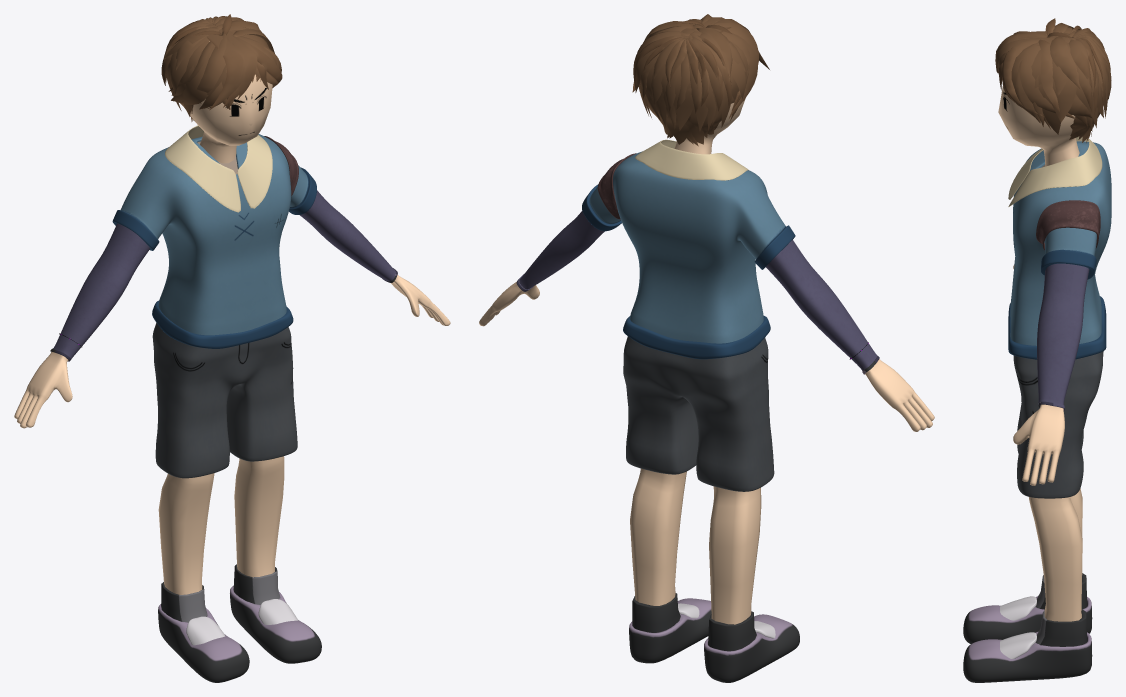
The model's file is WynterFinal.fbx.
3 renders of one model, left to right at view 1: azimuth 30°, elevation 25°; view 2: azimuth 150°, elevation 25°; view 3: azimuth 270°, elevation 25°, orthographic. The views are drawn at different scales.
Parts seen in each view (by area): view 1: Camiseta, ElColegon001, Pantacas001, rambut_pendek001, MangasLargas001, CuelloCamisa001, Bota003, Bota002, ParteAbajoCamiseta001, Calceto003, Calceto002, CosaDeBota003 (+1 smaller); view 2: Camiseta, Pantacas001, ElColegon001, rambut_pendek001, MangasLargas001, Bota003, Bota002, CuelloCamisa001, ParteAbajoCamiseta001, Calceto003, Calceto002, CosaDeCueroRara001; view 3: ElColegon001, Camiseta, rambut_pendek001, Pantacas001, MangasLargas001, Bota002, CuelloCamisa001, Bota003, CosaDeCueroRara001, Calceto002, ParteAbajoCamiseta001, CosaDeBota002 (+2 smaller).
Boxes of the visible parts, bbox=[...] form: Camiseta: bbox=[112, 134, 316, 335]; ElColegon001: bbox=[14, 41, 450, 594]; Pantacas001: bbox=[152, 323, 297, 478]; rambut_pendek001: bbox=[161, 14, 282, 121]; MangasLargas001: bbox=[53, 190, 395, 358]; CuelloCamisa001: bbox=[165, 125, 272, 212]; Bota003: bbox=[158, 604, 249, 682]; Bota002: bbox=[230, 586, 321, 663]; ParteAbajoCamiseta001: bbox=[152, 300, 293, 348]; Calceto003: bbox=[161, 582, 207, 622]; Calceto002: bbox=[233, 564, 280, 604]; CosaDeBota003: bbox=[186, 616, 225, 645]; Camiseta: bbox=[582, 151, 795, 343]; Pantacas001: bbox=[623, 336, 774, 491]; ElColegon001: bbox=[479, 98, 934, 624]; rambut_pendek001: bbox=[632, 14, 769, 146]; MangasLargas001: bbox=[519, 211, 877, 370]; Bota003: bbox=[704, 614, 799, 682]; Bota002: bbox=[629, 598, 711, 663]; CuelloCamisa001: bbox=[635, 139, 748, 180]; ParteAbajoCamiseta001: bbox=[623, 315, 770, 359]; Calceto003: bbox=[708, 611, 756, 651]; Calceto002: bbox=[632, 593, 680, 632]; CosaDeCueroRara001: bbox=[597, 153, 636, 219]; ElColegon001: bbox=[998, 86, 1082, 621]; Camiseta: bbox=[1010, 141, 1111, 345]; rambut_pendek001: bbox=[995, 18, 1111, 142]; Pantacas001: bbox=[1013, 351, 1103, 498]; MangasLargas001: bbox=[1037, 263, 1089, 404]; Bota002: bbox=[963, 631, 1092, 682]; CuelloCamisa001: bbox=[1008, 136, 1102, 206]; Bota003: bbox=[963, 596, 1092, 643]; CosaDeCueroRara001: bbox=[1036, 200, 1100, 250]; Calceto002: bbox=[1035, 609, 1086, 646]; ParteAbajoCamiseta001: bbox=[1008, 296, 1106, 359]; CosaDeBota002: bbox=[1000, 632, 1036, 658].
Size of the model in its own units: 31.57 by 43.61 by 9.33.
5 materials, 5 textured.
